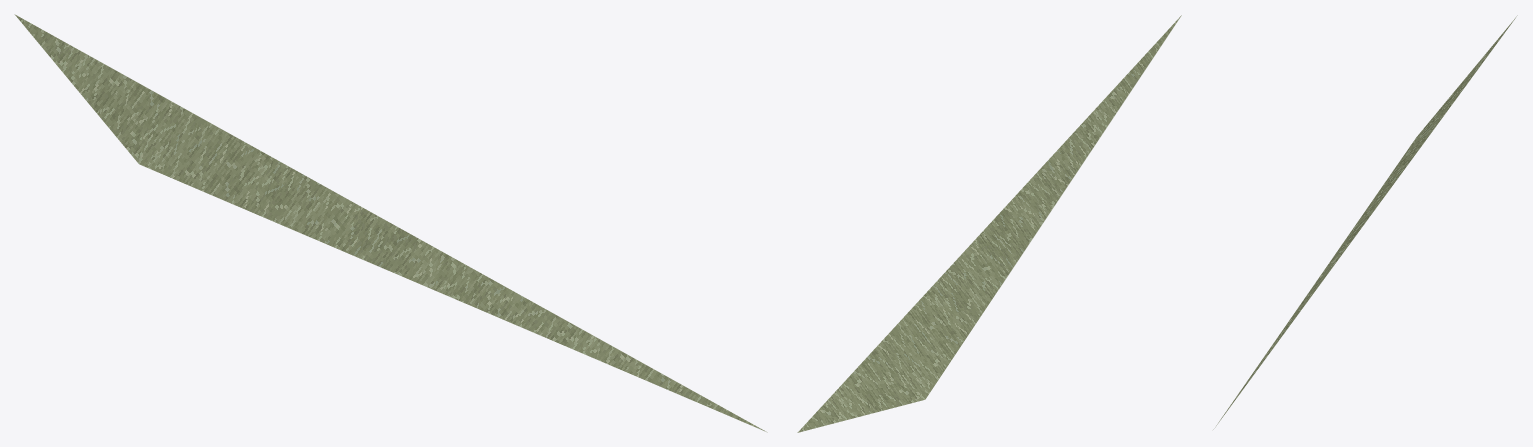
Rendered from kd_stage_135c43_4_140_bounded_piece_7.glb.
The picture shows the model from 3 angles, left to right: view 1: azimuth 30°, elevation 25°; view 2: azimuth 150°, elevation 25°; view 3: azimuth 330°, elevation 25°; orthographic projection. The views are drawn at different scales.
Visible parts, largest first — view 1: kd_stage_135c43_4_140_bounded_piece_7; view 2: kd_stage_135c43_4_140_bounded_piece_7; view 3: kd_stage_135c43_4_140_bounded_piece_7.
Part boxes in pixels (box(x1,y1,x2,y2)): kd_stage_135c43_4_140_bounded_piece_7: box(14, 14, 767, 432); kd_stage_135c43_4_140_bounded_piece_7: box(797, 15, 1181, 432); kd_stage_135c43_4_140_bounded_piece_7: box(1213, 15, 1517, 429).
Size of the model in its own units: 0.4217 by 0.1253 by 2.18.
Materials: 1 (1 with a texture image).
